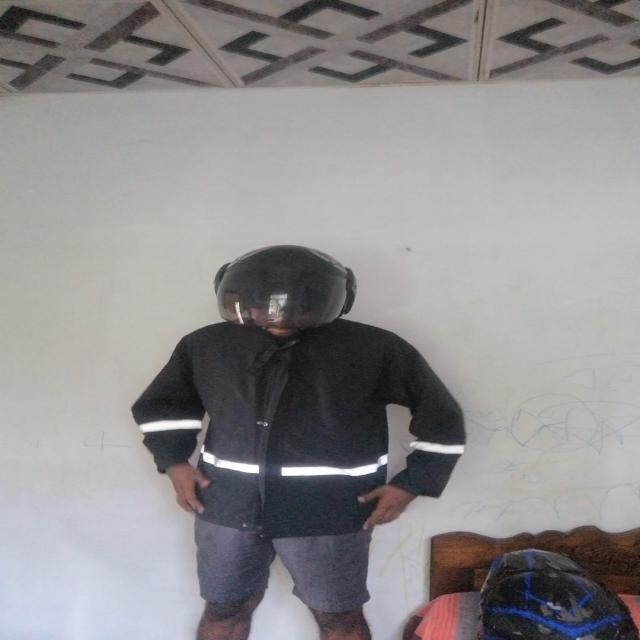Helmet_Wearer: (203, 244, 385, 345)
Jacket_Wearer: (117, 317, 467, 535)
Person: (147, 238, 462, 636)
